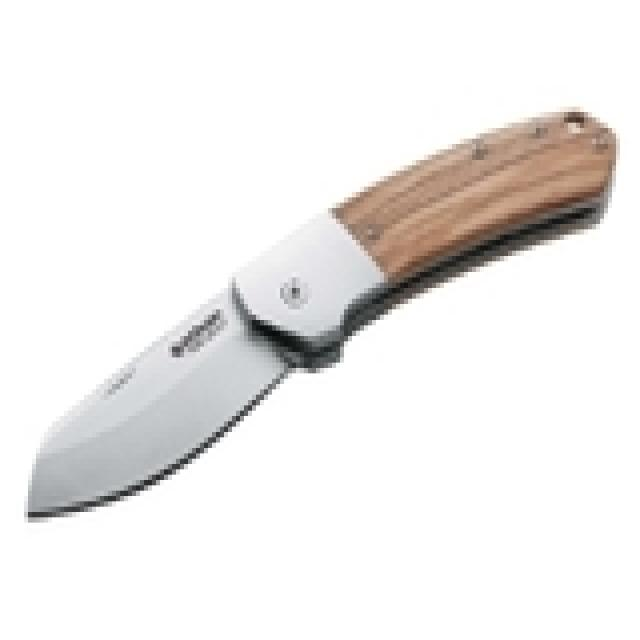Knife: (15, 95, 620, 529)
